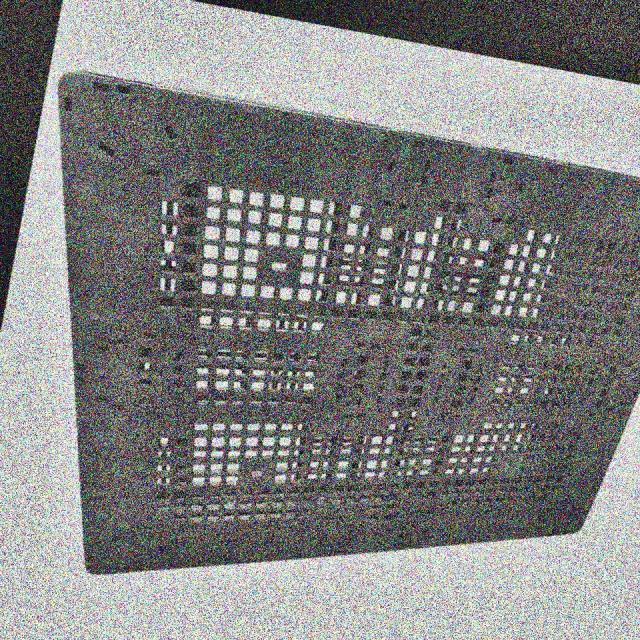non-igps: (53, 65, 640, 576)
